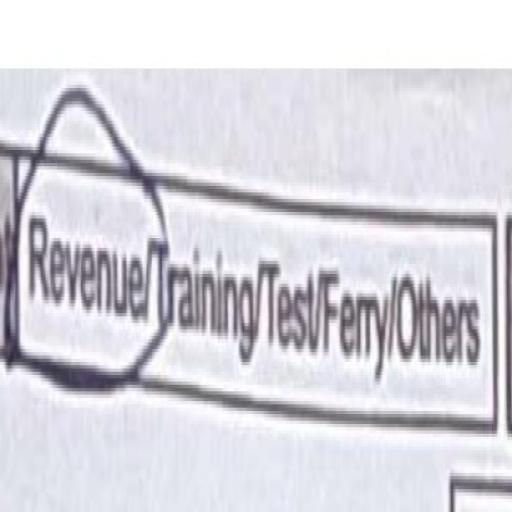check: (20, 72, 148, 441)
